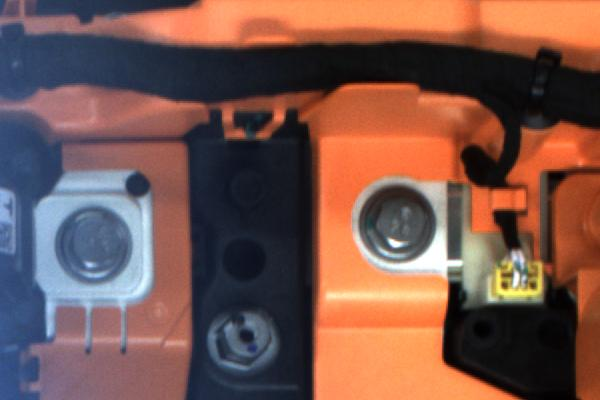nut_b: (350, 182, 447, 268), (47, 205, 145, 290)
